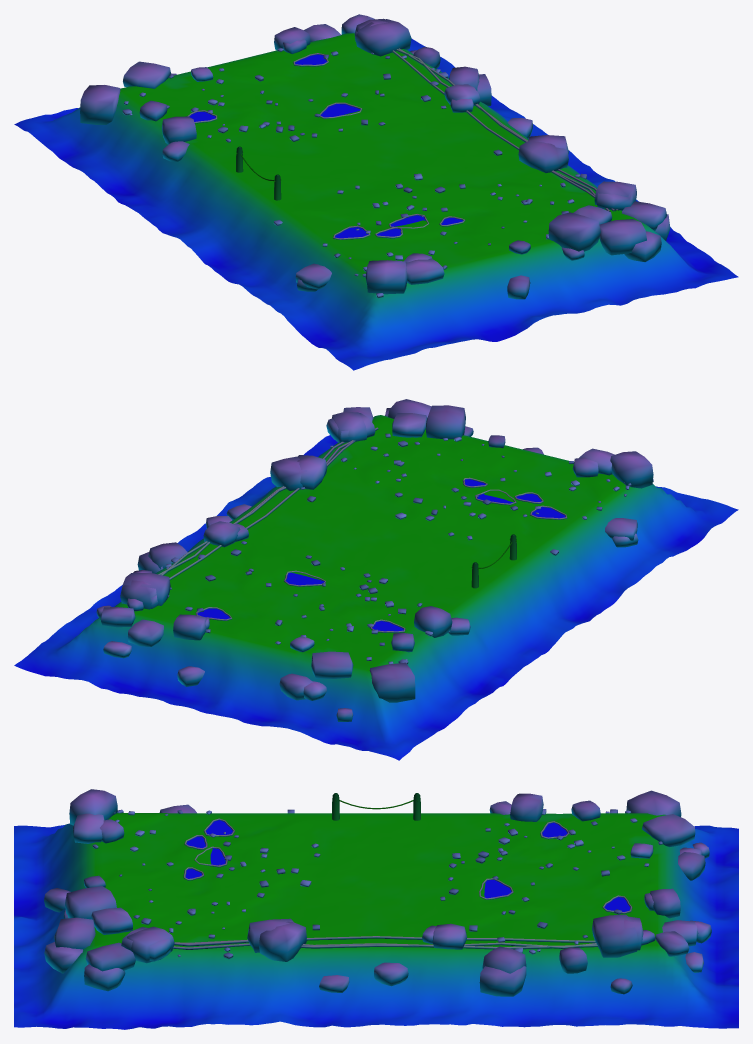
File: islet_landing.glb
3 views of the same model, one above another, from view 1: azimuth 30°, elevation 25°; view 2: azimuth 150°, elevation 25°; view 3: azimuth 270°, elevation 25° (orthographic). The views are drawn at different scales.
Visible parts, largest first — view 1: islet_landing; view 2: islet_landing; view 3: islet_landing.
Boxes of the visible parts, left/top/right/bottom form: islet_landing: left=14, top=14, right=738, bottom=370; islet_landing: left=14, top=399, right=738, bottom=760; islet_landing: left=14, top=789, right=738, bottom=1029.
Size of what is drawn, in the model's own units: 15.2 by 2.76 by 23.2.
